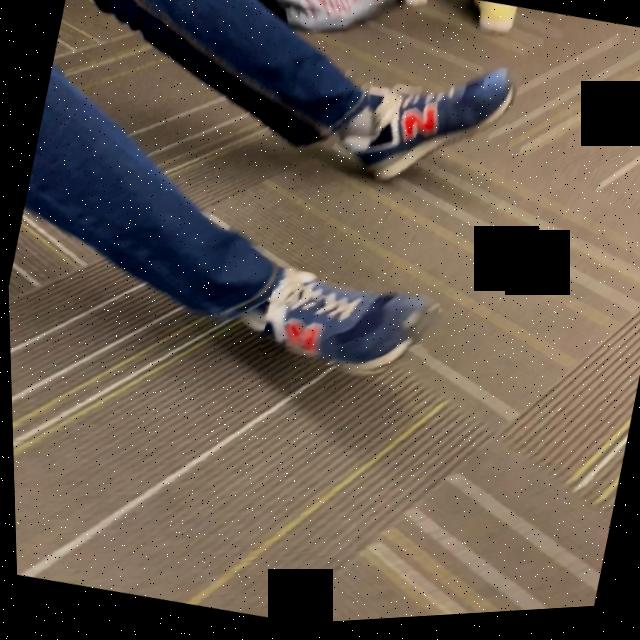shoe: (337, 74, 514, 187), (263, 273, 437, 376)
